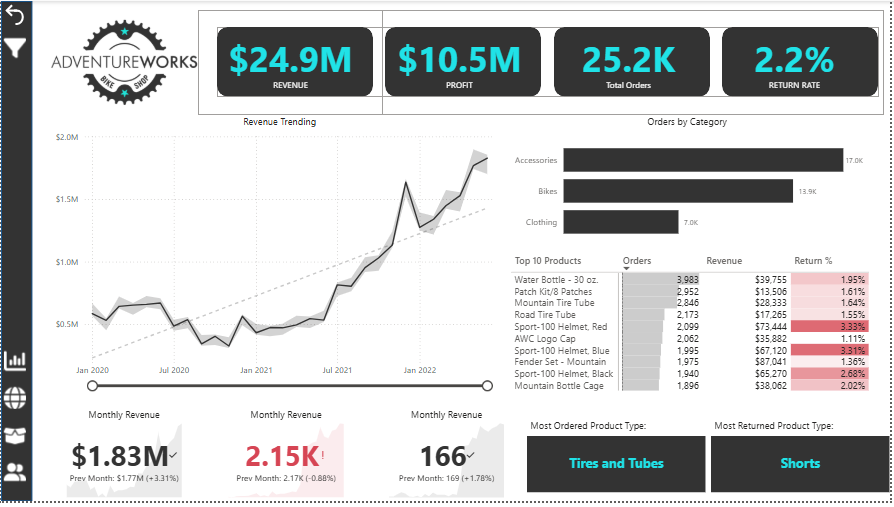

The page's visual inventory and layout, read from the dashboard file:
{"tool":"powerbi","page":{"name":"Exec Dashboard","canvas":[1280,720],"ordinal":0},"visuals":[{"type":"card","fields":{"Values":["Measure Table.Total Revenue"]},"box":[283.6,13,266.7,150.7],"z":0,"group":"g2"},{"type":"image","title":"AW Logo","box":[44.9,18.8,266.7,139.1],"z":0},{"type":"group","id":"g1","title":"KPI Backgrounds","box":[311.6,37.7,952.2,100],"z":0,"group":"g3"},{"type":"shape","box":[1039.1,37.7,224.6,100],"z":0,"group":"g1"},{"type":"actionButton","box":[0,497.8,44.6,40.3],"z":0,"group":"g4"},{"type":"shape","title":"Left Navigation Background","box":[0,0,45,720.3],"z":1000},{"type":"group","id":"g2","title":"KPI Values","box":[283.6,13,988.4,150.7],"z":1000,"group":"g3"},{"type":"card","fields":{"Values":["Measure Table.Total Profit"]},"box":[527.1,13,266.7,150.7],"z":1000,"group":"g2"},{"type":"shape","box":[796.6,37.7,224.6,100],"z":1000,"group":"g1"},{"type":"actionButton","box":[0,605.3,44.6,40.3],"z":1000,"group":"g4"},{"type":"group","id":"g3","title":"KPIs","box":[283.6,13,988.4,150.7],"z":2000},{"type":"card","fields":{"Values":["Measure Table.Total Orders"]},"box":[770.6,13,266.7,150.7],"z":2000,"group":"g2"},{"type":"shape","box":[554.1,37.7,224.6,100],"z":2000,"group":"g1"},{"type":"actionButton","box":[0,658.2,44.6,40.3],"z":2000,"group":"g4"},{"type":"card","fields":{"Values":["Measure Table.Return Rate"]},"box":[1014,13,258,150.7],"z":3000,"group":"g2"},{"type":"shape","box":[311.6,37.7,224.6,100],"z":3000,"group":"g1"},{"type":"lineChart","title":"Revenue Trending","fields":{"Y":["Measure Table.Total Revenue"],"Category":["Calendar Lookup.Start of Month"]},"box":[73.5,164.7,655.9,401.5],"z":3000},{"type":"actionButton","box":[0,551.6,44.6,40.3],"z":3000,"group":"g4"},{"type":"kpi","title":"Monthly Revenue","fields":{"Indicator":["Measure Table.Total Revenue"],"TrendLine":["Calendar Lookup.Start of Month"],"Goal":["Measure Table.Previous Month Revenue"]},"box":[89.7,586.2,176.5,133.8],"z":4000},{"type":"kpi","title":"Monthly Revenue","fields":{"TrendLine":["Calendar Lookup.Start of Month"],"Indicator":["Measure Table.Total Orders"],"Goal":["Measure Table.Previous Month Orders"]},"box":[322.1,586.2,176.5,133.8],"z":5000},{"type":"kpi","title":"Monthly Revenue","fields":{"TrendLine":["Calendar Lookup.Start of Month"],"Indicator":["Measure Table.Total Returns"],"Goal":["Measure Table.Previous Month Return"]},"box":[554.4,586.2,175,133.8],"z":6000},{"type":"barChart","title":"Orders by Category","fields":{"Category":["Product Categories Lookup.CategoryName"],"Y":["Measure Table.Total Orders"]},"box":[729.4,164.7,516.2,195.6],"z":7000},{"type":"pivotTable","fields":{"Rows":["Product Lookup.ProductName"],"Values":["Measure Table.Total Orders","Measure Table.Total Revenue","Measure Table.Return Rate"]},"box":[729.4,360.3,533.8,226.5],"z":8000},{"type":"card","fields":{"Values":["Min(Product Subcategories Lookup.SubcategoryName)"]},"box":[757.8,626.5,257.4,80.9],"z":9000},{"type":"textbox","box":[757.8,597.1,219.1,57.4],"z":10000},{"type":"card","fields":{"Values":["Min(Product Subcategories Lookup.SubcategoryName)"]},"box":[1022.1,626.5,257.4,80.9],"z":11000},{"type":"textbox","box":[1022.1,597.1,219.1,57.4],"z":12000},{"type":"actionButton","box":[0,0,45.6,39.7],"z":13000},{"type":"group","id":"g4","title":"Navigation Buttons","box":[0,497.8,44.6,200.7],"z":14000},{"type":"actionButton","box":[0,47.5,46.1,40.3],"z":15000}]}

Visuals, with their boxes on the page's 1280x720 design canvas (x1, y1, x2, y2). These are canvas units, not pixel positions in the 894x507 screenshot, which may show the page scaled, cropped or inside an application window:
card - Measure Table.Total Revenue: x1=284 y1=13 x2=550 y2=164
"AW Logo" image: x1=45 y1=19 x2=312 y2=158
"KPI Backgrounds" group: x1=312 y1=38 x2=1264 y2=138
shape: x1=1039 y1=38 x2=1264 y2=138
actionButton: x1=0 y1=498 x2=45 y2=538
"Left Navigation Background" shape: x1=0 y1=0 x2=45 y2=720
"KPI Values" group: x1=284 y1=13 x2=1272 y2=164
card - Measure Table.Total Profit: x1=527 y1=13 x2=794 y2=164
shape: x1=797 y1=38 x2=1021 y2=138
actionButton: x1=0 y1=605 x2=45 y2=646
"KPIs" group: x1=284 y1=13 x2=1272 y2=164
card - Measure Table.Total Orders: x1=771 y1=13 x2=1037 y2=164
shape: x1=554 y1=38 x2=779 y2=138
actionButton: x1=0 y1=658 x2=45 y2=698
card - Measure Table.Return Rate: x1=1014 y1=13 x2=1272 y2=164
shape: x1=312 y1=38 x2=536 y2=138
"Revenue Trending" lineChart: x1=74 y1=165 x2=729 y2=566
actionButton: x1=0 y1=552 x2=45 y2=592
"Monthly Revenue" kpi: x1=90 y1=586 x2=266 y2=720
"Monthly Revenue" kpi: x1=322 y1=586 x2=499 y2=720
"Monthly Revenue" kpi: x1=554 y1=586 x2=729 y2=720
"Orders by Category" barChart: x1=729 y1=165 x2=1246 y2=360
pivotTable - Product Lookup.ProductName x Measure Table.Total Orders: x1=729 y1=360 x2=1263 y2=587
card - Min(Product Subcategories Lookup.SubcategoryName): x1=758 y1=626 x2=1015 y2=707
textbox: x1=758 y1=597 x2=977 y2=654
card - Min(Product Subcategories Lookup.SubcategoryName): x1=1022 y1=626 x2=1280 y2=707
textbox: x1=1022 y1=597 x2=1241 y2=654
actionButton: x1=0 y1=0 x2=46 y2=40
"Navigation Buttons" group: x1=0 y1=498 x2=45 y2=698
actionButton: x1=0 y1=48 x2=46 y2=88
